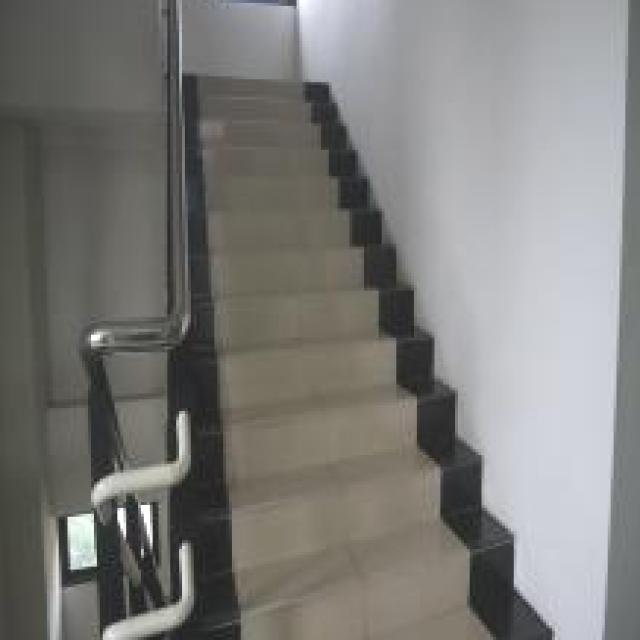upstair: (186, 107, 409, 635)
